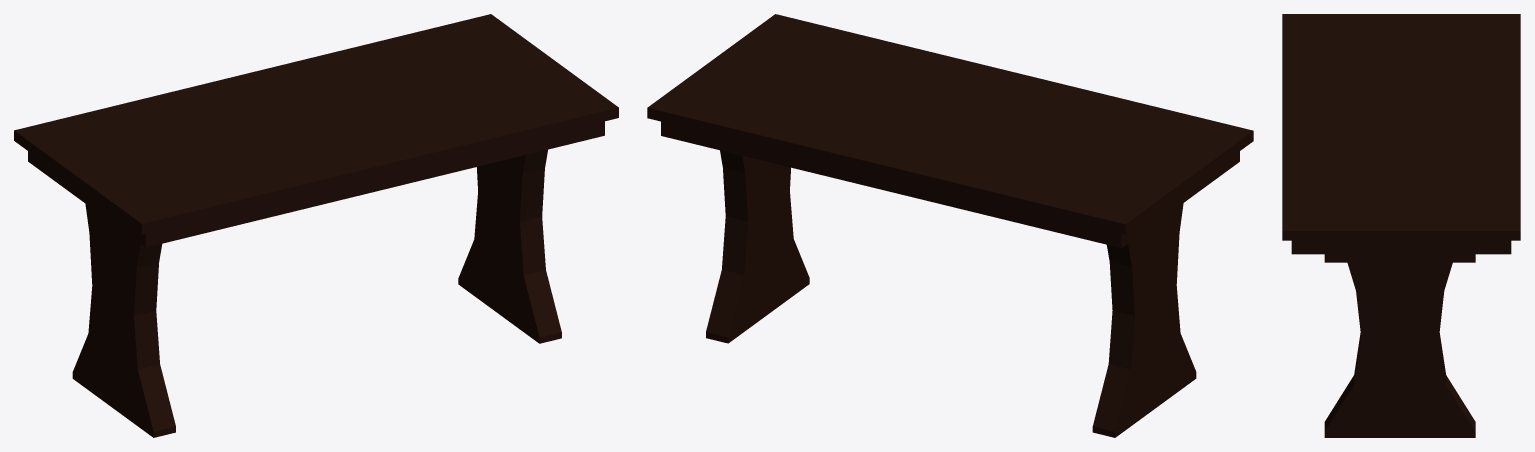
Rendered from desk.obj.
3 views of the same model, side by side, from view 1: azimuth 30°, elevation 25°; view 2: azimuth 150°, elevation 25°; view 3: azimuth 270°, elevation 25° (orthographic). The views are drawn at different scales.
Visible parts, largest first — view 1: Desk_Cube.030; view 2: Desk_Cube.030; view 3: Desk_Cube.030.
Part boxes in pixels (x1=…): Desk_Cube.030: x1=14, y1=14, x2=618, y2=437; Desk_Cube.030: x1=647, y1=14, x2=1253, y2=437; Desk_Cube.030: x1=1282, y1=14, x2=1520, y2=437.
Bounding box in the file's own units: 1.9 × 0.9106 × 0.8823.
